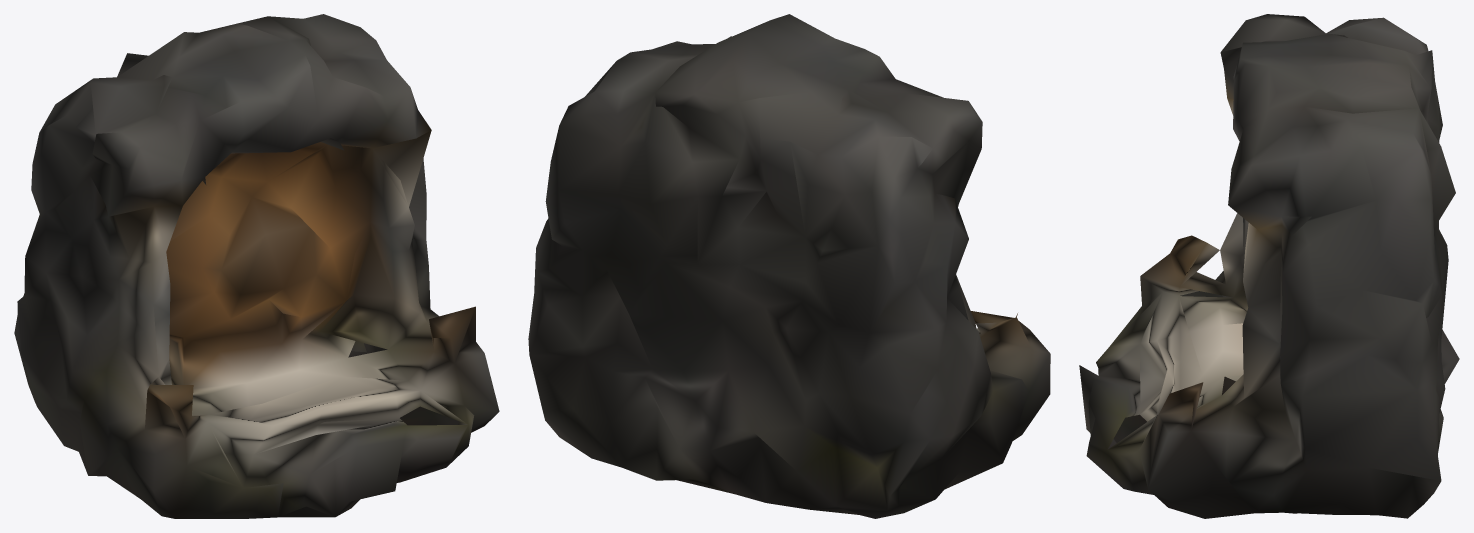
File: landmark_vault.glb
The picture shows the model from 3 angles, left to right: view 1: azimuth 30°, elevation 25°; view 2: azimuth 150°, elevation 25°; view 3: azimuth 270°, elevation 25°; orthographic projection. The views are drawn at different scales.
Visible parts, largest first — view 1: geometry_0; view 2: geometry_0; view 3: geometry_0.
Part boxes in pixels (x1,y1,x2,y2): geometry_0: (14,14,499,518); geometry_0: (528,14,1050,518); geometry_0: (1079,14,1459,518).
Bounding box in the file's own units: 10.3 × 9.97 × 8.7.
